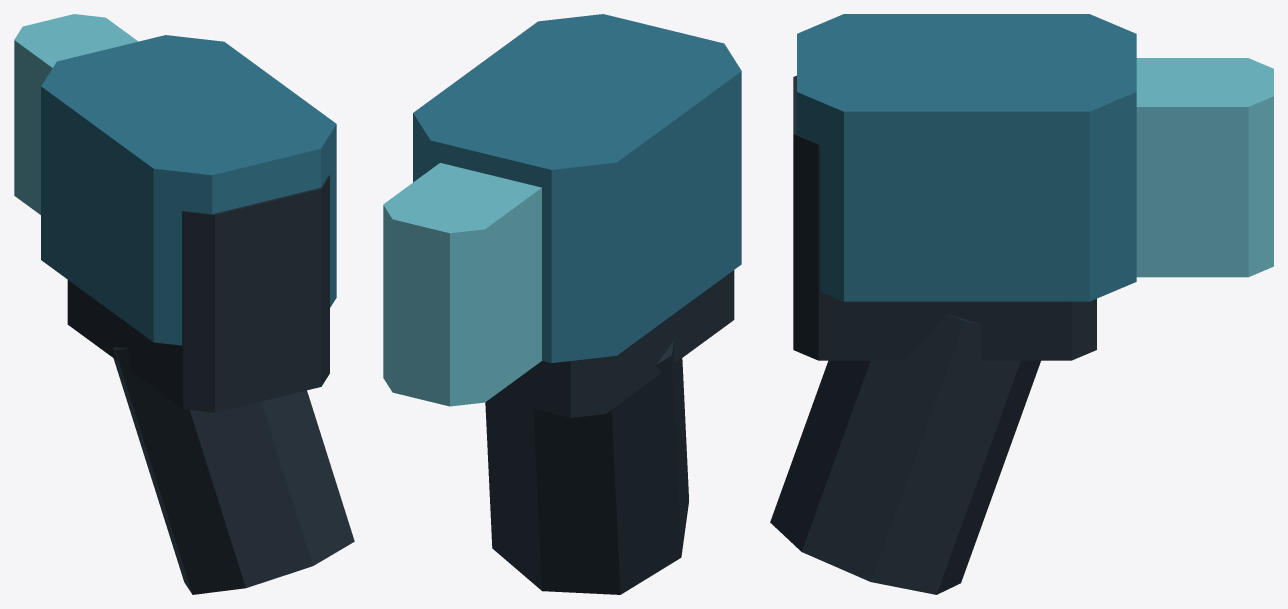
Rendered from enemy_marksman_lod_upper_arm_r.obj.
The picture shows the model from 3 angles, left to right: view 1: azimuth 30°, elevation 25°; view 2: azimuth 150°, elevation 25°; view 3: azimuth 270°, elevation 25°; orthographic projection. The views are drawn at different scales.
Size of the model in its own units: 0.3584 by 0.7669 by 0.6971.
